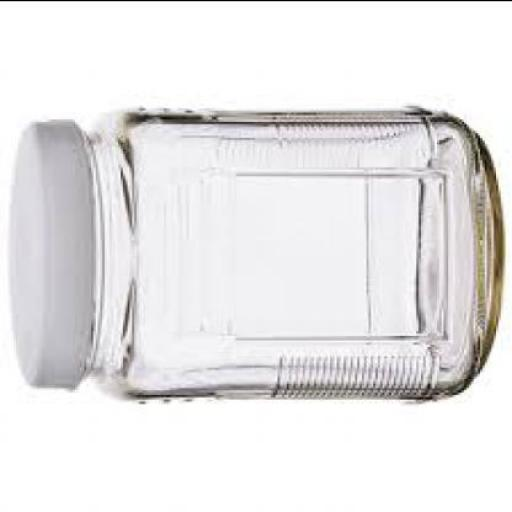glass: (82, 110, 505, 402)
metal: (7, 123, 91, 389)
